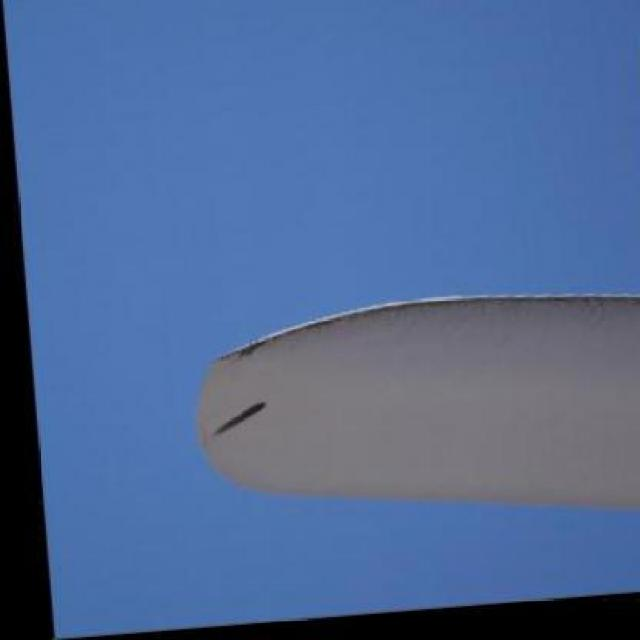Burn Mark: (206, 392, 276, 443)
EROSION: (196, 290, 411, 367)
